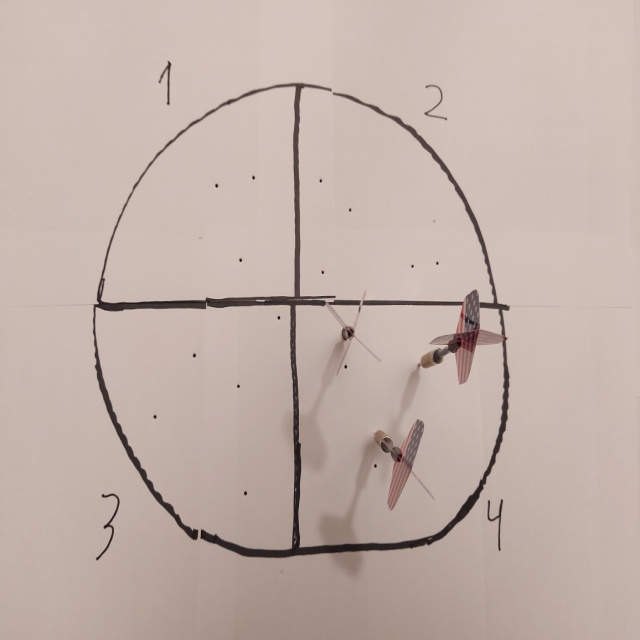Dart: (411, 288, 510, 394), (364, 416, 442, 520), (319, 288, 386, 381)
